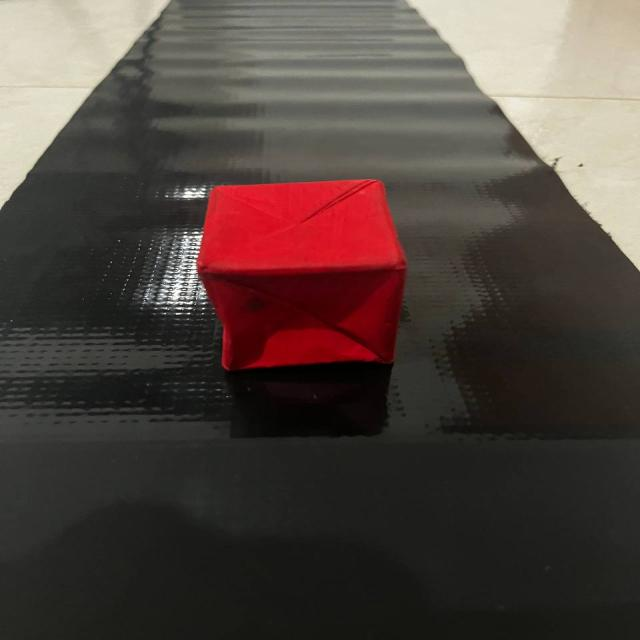Rojo: (182, 162, 420, 391)
